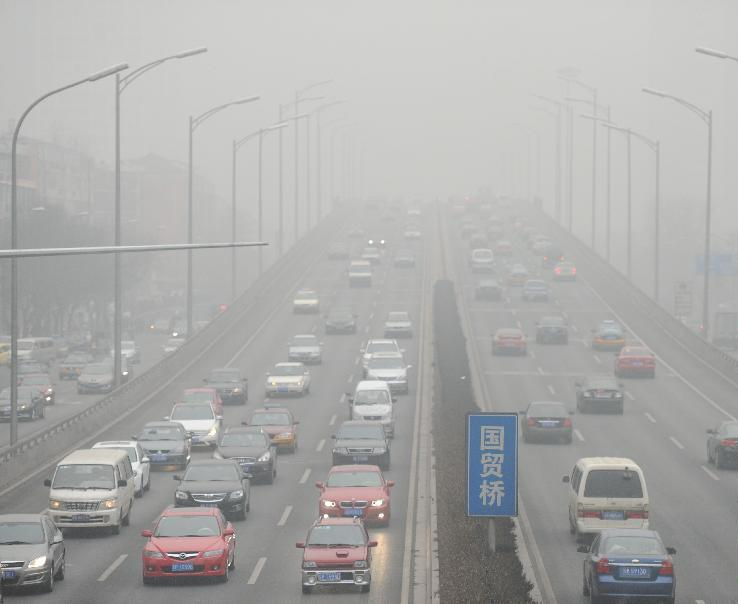car: (42, 448, 136, 536), (575, 525, 678, 602), (559, 454, 649, 541), (141, 505, 237, 584), (294, 513, 379, 594), (166, 458, 255, 520), (314, 464, 396, 528), (1, 513, 66, 590), (210, 423, 275, 483), (91, 438, 151, 497), (329, 418, 394, 467), (131, 420, 193, 471), (162, 401, 224, 452), (241, 402, 301, 452), (517, 399, 575, 446), (348, 379, 397, 430), (362, 351, 413, 394), (572, 374, 625, 414), (263, 361, 312, 398), (702, 418, 738, 468), (4, 336, 59, 368), (1, 385, 47, 421), (200, 368, 249, 401), (361, 338, 405, 374), (179, 386, 221, 422), (613, 345, 656, 379), (73, 361, 116, 392), (16, 372, 55, 406), (587, 318, 626, 351), (57, 349, 96, 382), (285, 334, 325, 365), (531, 315, 570, 345), (529, 313, 568, 343), (488, 327, 528, 353), (322, 307, 359, 334), (97, 356, 129, 386), (107, 339, 140, 366), (345, 259, 375, 287), (382, 310, 413, 337), (292, 287, 320, 312), (475, 277, 502, 301), (470, 248, 494, 273), (540, 245, 565, 269), (521, 279, 548, 300), (552, 260, 577, 281), (392, 248, 416, 267), (359, 246, 380, 266)
